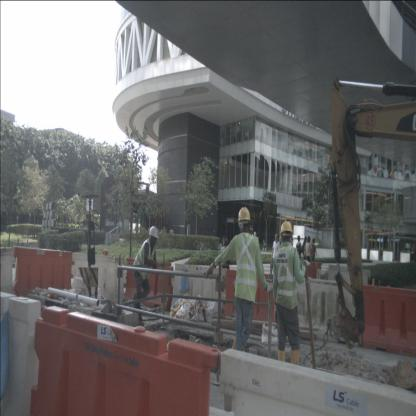barrier: (29, 305, 222, 416), (218, 348, 416, 416), (0, 290, 44, 416), (292, 276, 362, 348), (360, 282, 416, 357), (223, 268, 278, 326), (13, 246, 72, 298), (72, 252, 126, 306), (172, 263, 225, 318), (126, 258, 174, 307), (327, 264, 372, 308)
